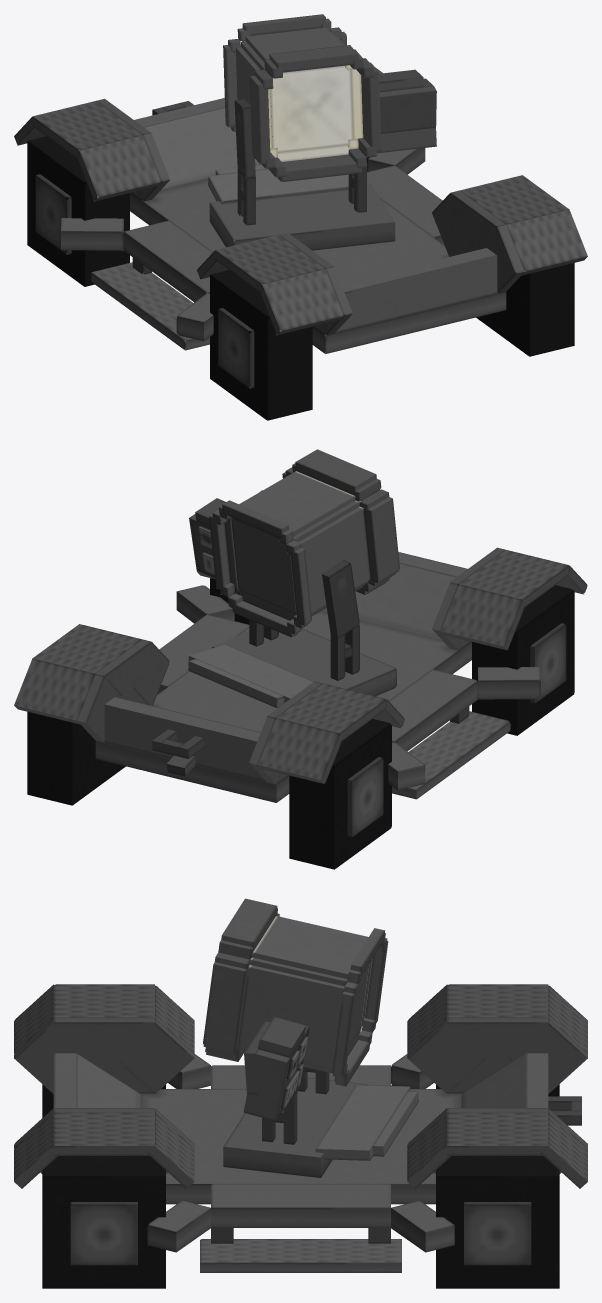
Rendered from spotlight.obj.
The picture shows the model from 3 angles, top to bottom: view 1: azimuth 30°, elevation 25°; view 2: azimuth 150°, elevation 25°; view 3: azimuth 270°, elevation 25°; orthographic projection. The views are drawn at different scales.
Parts seen in each view (by area): view 1: baseModel15, baseModel23, baseModel4, baseModel91, baseModel5, baseModel42, baseModel24, baseModel90, baseModel96, baseModel93, baseModel9, baseModel27 (+34 smaller); view 2: baseModel15, baseModel5, baseModel23, baseModel89, baseModel6, baseModel4, baseModel92, baseModel96, baseModel93, baseModel42, baseModel46, baseModel48 (+32 smaller); view 3: baseModel15, baseModel24, baseModel6, baseModel103, baseModel101, baseModel4, baseModel44, baseModel34, baseModel17, baseModel46, baseModel29, baseModel11 (+41 smaller).
Boxes of the visible parts, box(x1,y1,x2,y2) form: baseModel15: box(130, 179, 506, 353); baseModel23: box(210, 270, 312, 420); baseModel4: box(209, 184, 395, 250); baseModel91: box(336, 248, 497, 332); baseModel5: box(27, 136, 129, 286); baseModel42: box(270, 65, 353, 152); baseModel24: box(476, 263, 574, 356); baseModel90: box(145, 108, 261, 190); baseModel96: box(123, 220, 212, 302); baseModel93: box(91, 262, 209, 350); baseModel9: box(76, 135, 160, 201); baseModel27: box(260, 269, 343, 335); baseModel15: box(95, 610, 471, 802); baseModel5: box(289, 719, 391, 869); baseModel23: box(472, 585, 574, 735); baseModel89: box(104, 697, 265, 781); baseModel6: box(27, 711, 125, 805); baseModel4: box(212, 628, 396, 696); baseModel92: box(322, 562, 457, 639); baseModel96: box(389, 669, 478, 751); baseModel93: box(392, 711, 510, 799); baseModel42: box(231, 518, 296, 614); baseModel46: box(231, 471, 355, 537); baseModel48: box(298, 507, 370, 613); baseModel15: box(140, 1089, 461, 1204); baseModel24: box(42, 1156, 165, 1288); baseModel6: box(436, 1156, 559, 1288); baseModel103: box(211, 1184, 390, 1227); baseModel101: box(200, 1239, 401, 1272); baseModel4: box(223, 1077, 367, 1177); baseModel44: box(238, 965, 344, 1068); baseModel34: box(53, 1017, 154, 1093); baseModel17: box(447, 1017, 548, 1093); baseModel46: box(252, 916, 368, 979); baseModel29: box(53, 1112, 154, 1155); baseModel11: box(447, 1112, 548, 1155).
Size of the model in its own units: 40.29 by 27.81 by 51.07.
